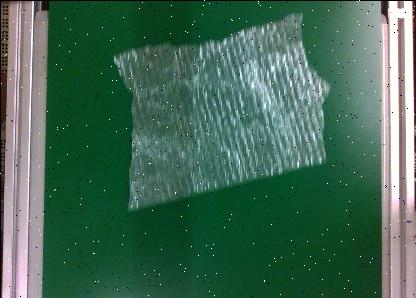Others: (111, 11, 327, 212)
